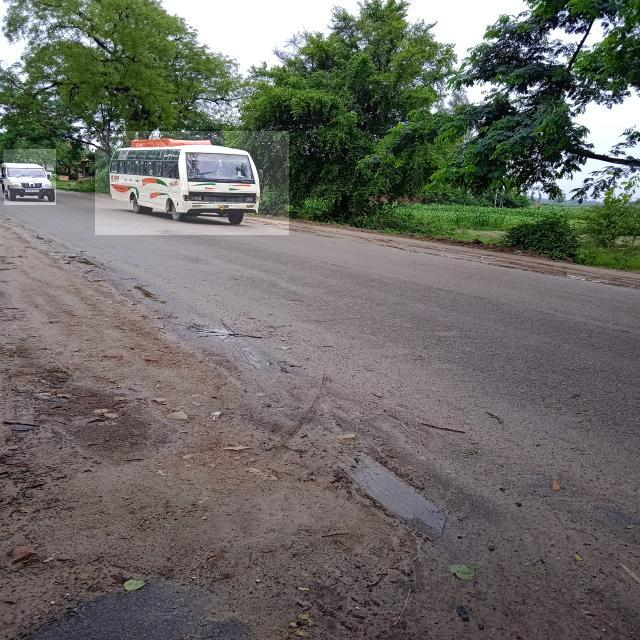Bus: (96, 131, 290, 235)
Car: (4, 149, 56, 205)
